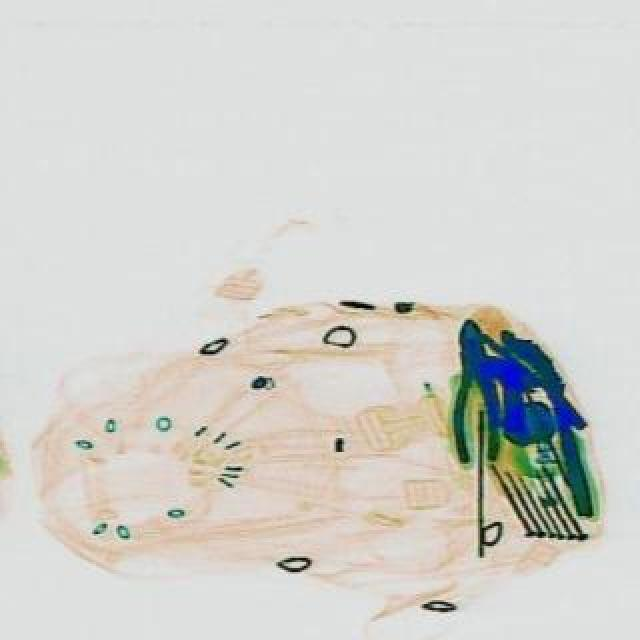wrench: (440, 316, 500, 462)
